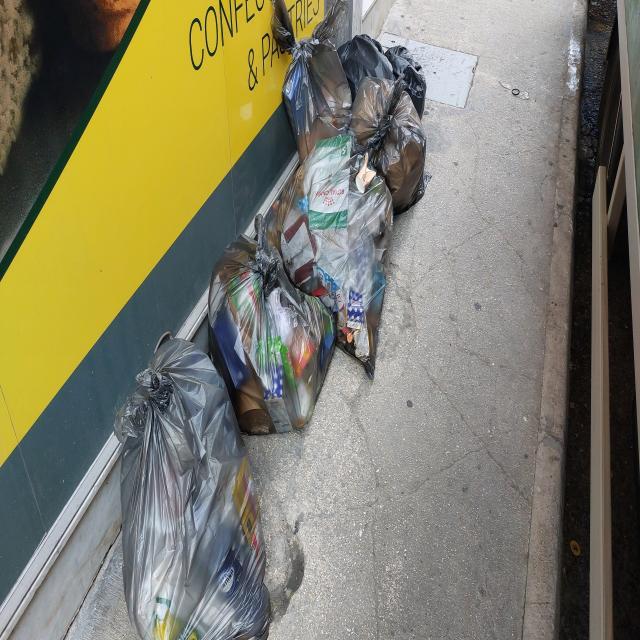Mixed Waste -Black Bag-: (114, 338, 272, 640), (264, 135, 394, 382), (209, 216, 336, 436), (273, 1, 353, 165), (353, 77, 435, 216), (338, 36, 395, 106), (386, 45, 428, 123)
